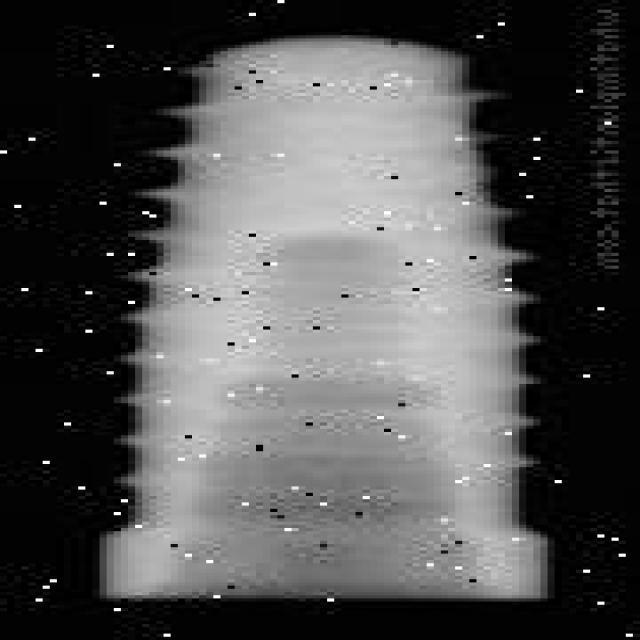Retained root: (99, 30, 559, 602)
